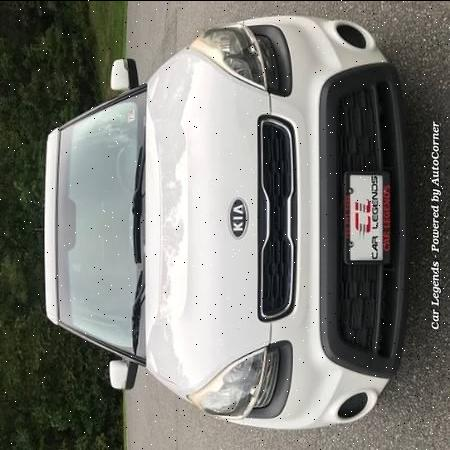Front_Bumper: (232, 13, 380, 430)
Front_Windshield: (58, 87, 148, 363)
Grille: (312, 61, 398, 379)
Hood: (143, 47, 272, 391)
Left_Headlight: (189, 27, 292, 95)
Left_Mirror: (110, 57, 139, 92)
Right_Headlight: (188, 340, 291, 419)
Right_Mirror: (109, 358, 138, 389)
Roof: (43, 127, 58, 323)
